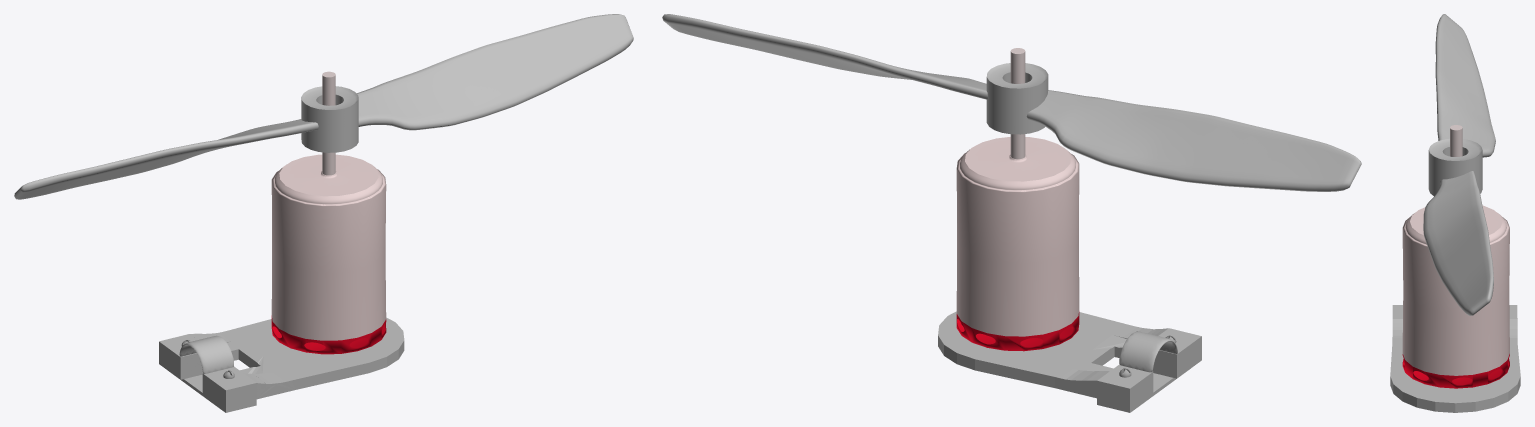
Rendered from motor and holder.fbx.
3 renders of one model, left to right at view 1: azimuth 30°, elevation 25°; view 2: azimuth 150°, elevation 25°; view 3: azimuth 270°, elevation 25°, orthographic. The views are drawn at different scales.
Visible parts, largest first — view 1: pCylinder12, fin3, pCylinder6, fin4, Ring1, nurbsToPoly5, pCylinder11; view 2: pCylinder12, fin4, pCylinder6, fin3, Ring1, nurbsToPoly5, pCylinder11; view 3: pCylinder12, fin3, fin4, pCylinder6, Ring1, pCylinder11.
Part boxes in pixels (left/top/right/bottom): pCylinder12: left=271, top=154, right=386, bottom=354; fin3: left=357, top=14, right=633, bottom=130; pCylinder6: left=159, top=317, right=404, bottom=412; fin4: left=14, top=119, right=318, bottom=199; Ring1: left=301, top=86, right=358, bottom=152; nurbsToPoly5: left=179, top=335, right=233, bottom=373; pCylinder11: left=322, top=71, right=335, bottom=175; pCylinder12: left=956, top=137, right=1079, bottom=351; fin4: left=1026, top=90, right=1361, bottom=191; pCylinder6: left=938, top=311, right=1201, bottom=412; fin3: left=662, top=14, right=987, bottom=99; Ring1: left=986, top=63, right=1048, bottom=134; nurbsToPoly5: left=1119, top=331, right=1177, bottom=372; pCylinder11: left=1010, top=48, right=1025, bottom=159; pCylinder12: left=1402, top=205, right=1509, bottom=388; fin3: left=1423, top=171, right=1493, bottom=315; fin4: left=1435, top=14, right=1495, bottom=157; pCylinder6: left=1390, top=305, right=1520, bottom=412; Ring1: left=1428, top=138, right=1482, bottom=195; pCylinder11: left=1450, top=125, right=1462, bottom=156.
Bounding box in the file's own units: 0.1041 × 0.046 × 0.0201.
